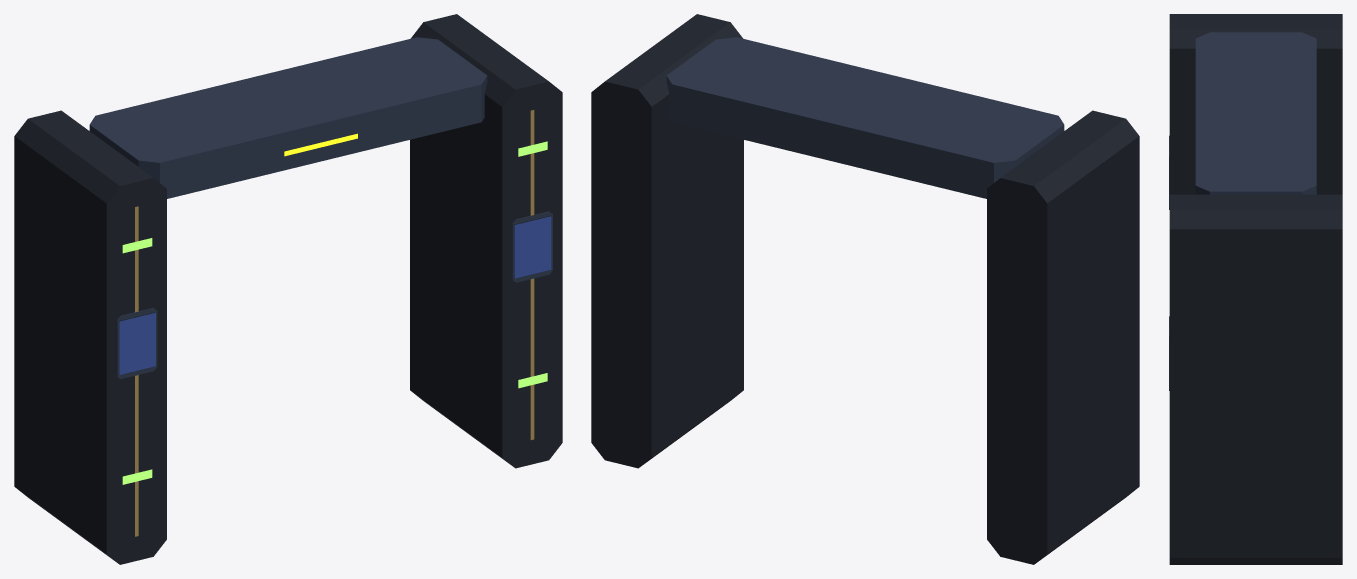
Rendered from res_biometric_arch.glb.
The picture shows the model from 3 angles, left to right: view 1: azimuth 30°, elevation 25°; view 2: azimuth 150°, elevation 25°; view 3: azimuth 270°, elevation 25°; orthographic projection. The views are drawn at different scales.
Parts seen in each view (by area): view 1: marble_scanner_pylon, scanner_bridge, print, brass_inlay, scanner_window; view 2: marble_scanner_pylon, scanner_bridge; view 3: marble_scanner_pylon, scanner_bridge.
Part boxes in pixels (box(x1,y1,x2,y2)): marble_scanner_pylon: box(14, 14, 562, 564); scanner_bridge: box(89, 37, 552, 379); print: box(119, 216, 551, 374); brass_inlay: box(135, 110, 534, 536); scanner_window: box(122, 141, 547, 484); marble_scanner_pylon: box(591, 14, 1139, 564); scanner_bridge: box(666, 37, 1064, 198); marble_scanner_pylon: box(1169, 14, 1342, 564); scanner_bridge: box(1169, 32, 1316, 390).
Bounding box in the file's own units: 3.4 × 2.7 × 1.2.
